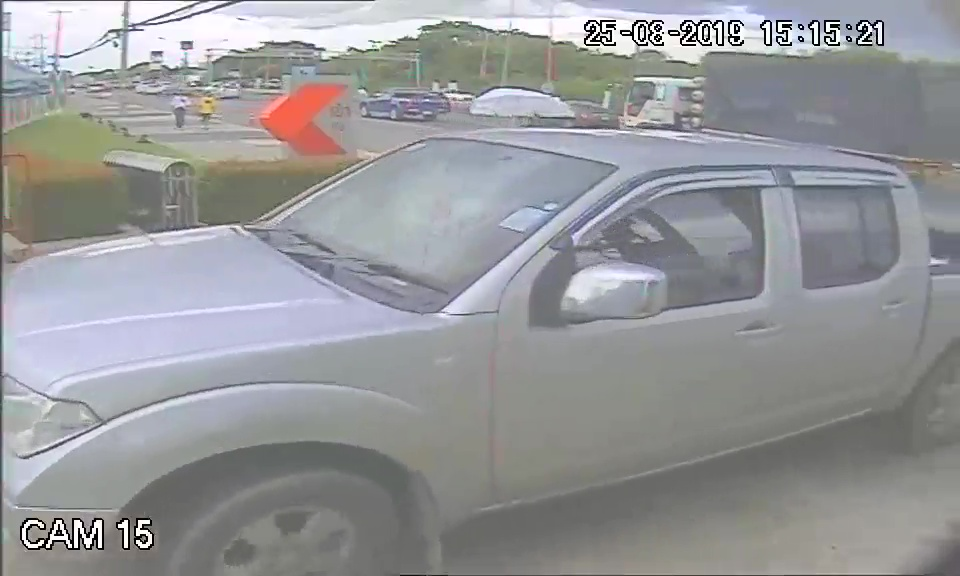pickup: (11, 125, 924, 513)
